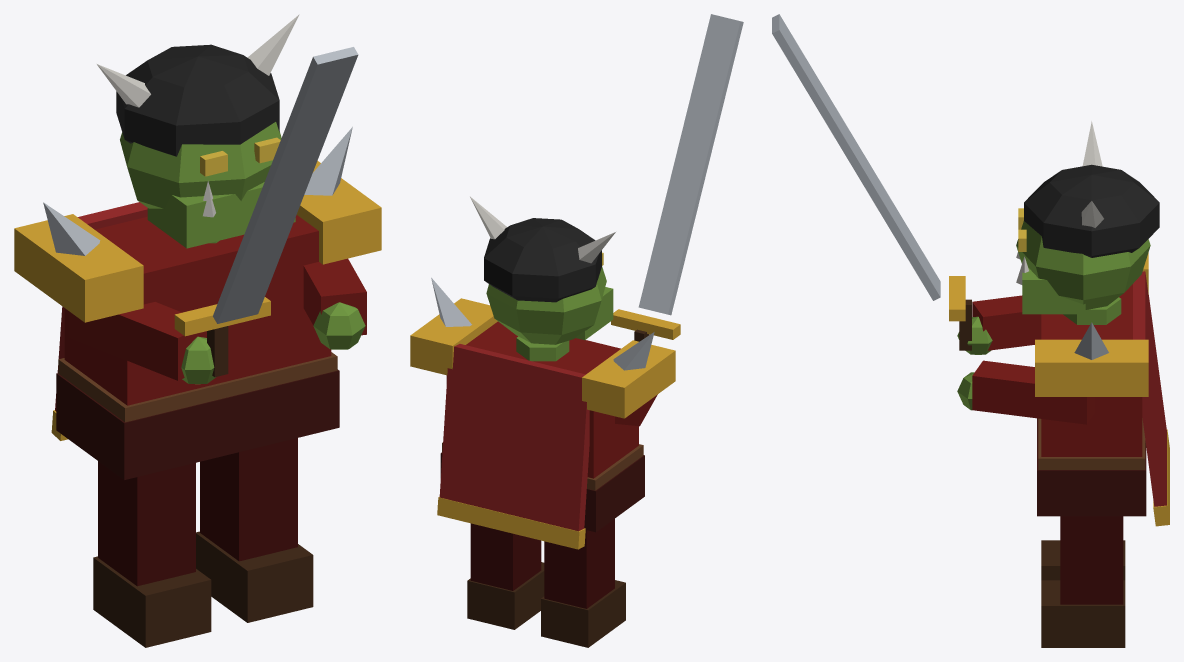
File: e_captain.fbx
The picture shows the model from 3 angles, left to right: view 1: azimuth 30°, elevation 25°; view 2: azimuth 150°, elevation 25°; view 3: azimuth 270°, elevation 25°; orthographic projection. The views are drawn at different scales.
Visible parts, largest first — view 1: e_captain_Body, e_captain_ArmR, e_captain_LegR, e_captain_LegL, e_captain_ArmL; view 2: e_captain_Body, e_captain_ArmR, e_captain_LegR, e_captain_LegL; view 3: e_captain_Body, e_captain_ArmR, e_captain_LegL, e_captain_ArmL, e_captain_LegR.
Part boxes in pixels (x1,y1,x2,y2): e_captain_Body: (14, 14, 381, 479); e_captain_ArmR: (69, 47, 358, 384); e_captain_LegR: (93, 461, 211, 647); e_captain_LegL: (196, 438, 313, 622); e_captain_ArmL: (303, 258, 366, 349); e_captain_Body: (410, 196, 675, 549); e_captain_ArmR: (611, 14, 743, 426); e_captain_LegR: (541, 519, 625, 647); e_captain_LegL: (467, 523, 544, 629); e_captain_Body: (1016, 121, 1169, 526); e_captain_ArmR: (772, 14, 1041, 354); e_captain_LegL: (1041, 516, 1125, 647); e_captain_ArmL: (957, 360, 1095, 424); e_captain_LegR: (1041, 540, 1125, 580).
Size of the model in its own units: 0.6836 by 1.5 by 0.9464.
